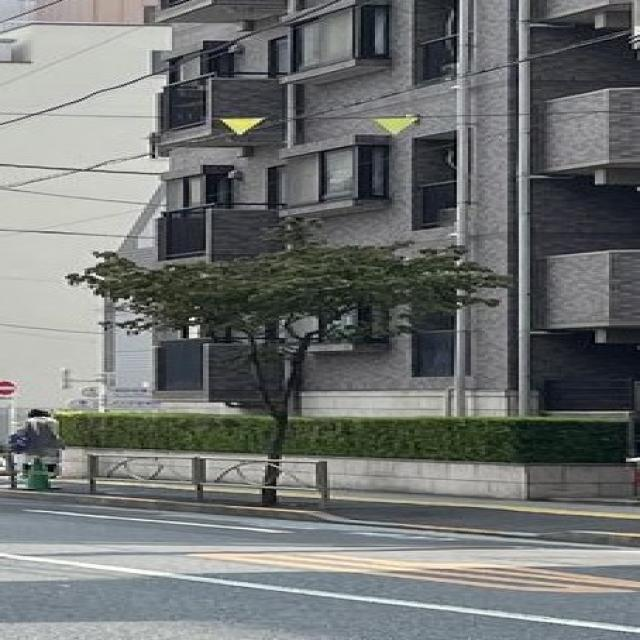dogwood: (62, 215, 518, 506)
